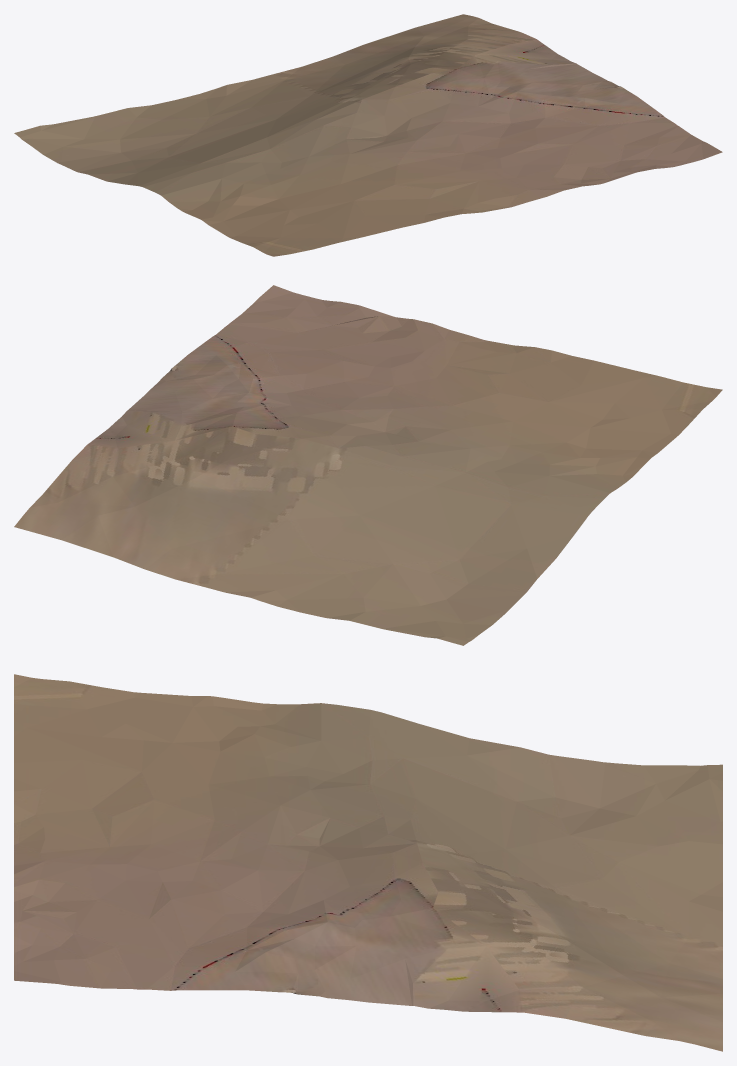
The picture shows the model from 3 angles, top to bottom: view 1: azimuth 30°, elevation 25°; view 2: azimuth 150°, elevation 25°; view 3: azimuth 270°, elevation 25°; orthographic projection. The views are drawn at different scales.
Bounding box in the file's own units: 1.04 × 0.1613 × 1.04.
2 materials, 2 textured.
